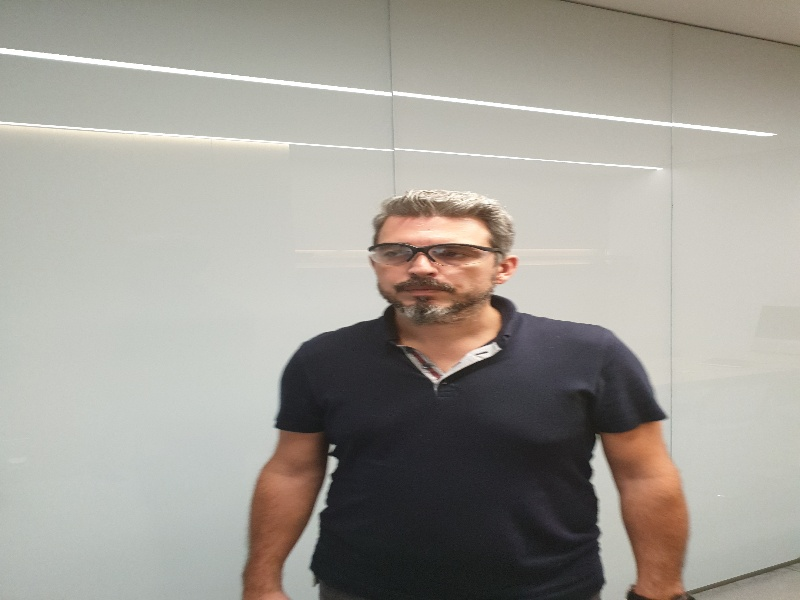Gozluk: (367, 243, 501, 263)
